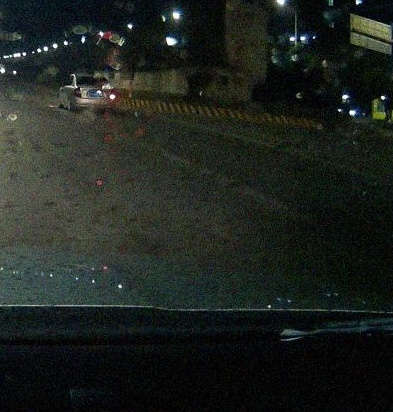L_light: (74, 87, 81, 98)
R_light: (110, 88, 116, 99)
T_light: (87, 77, 97, 79)
night-right: (73, 72, 117, 113)
